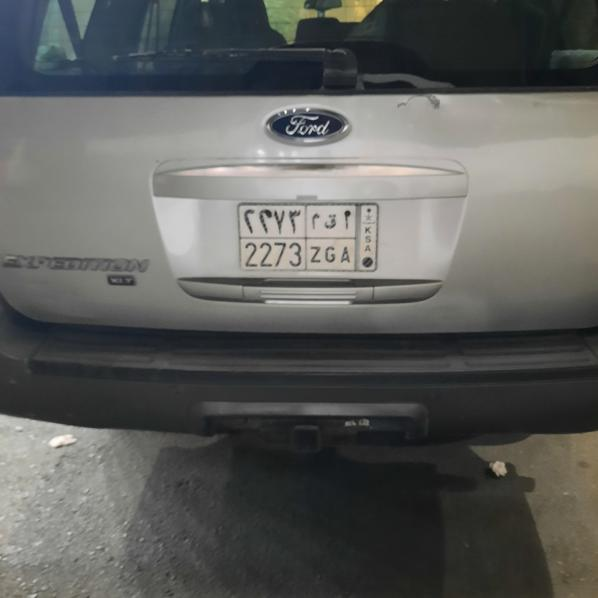numberplate: (237, 203, 379, 272)
